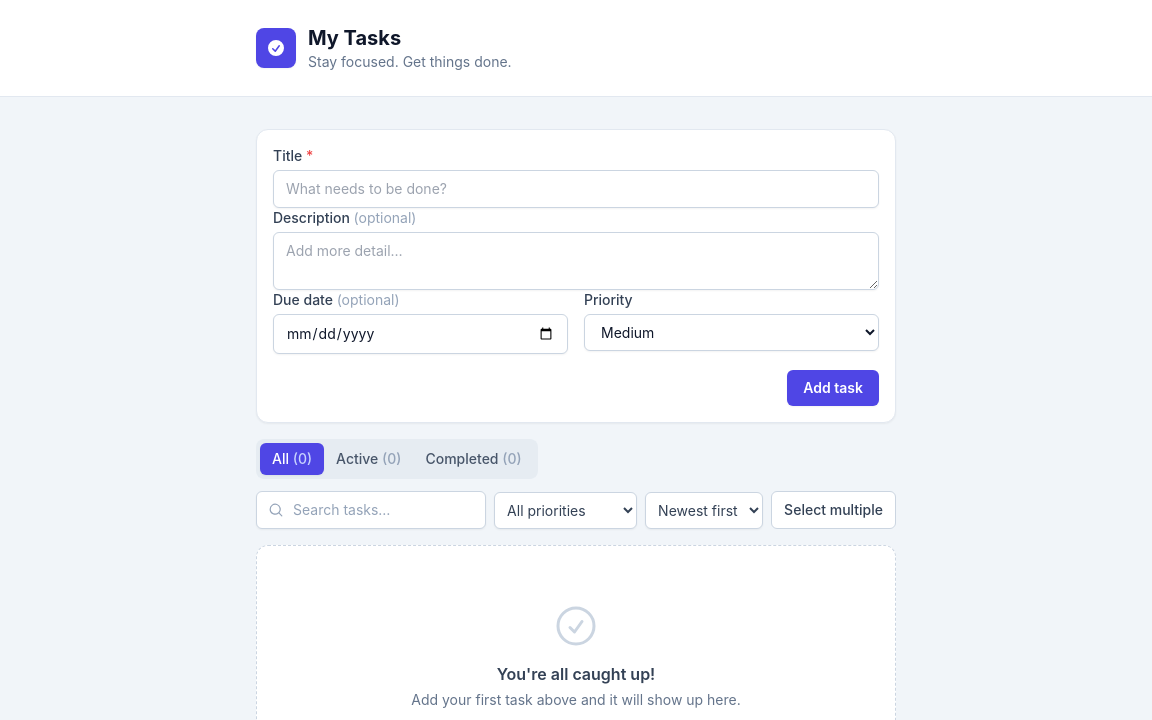
Scenario: App › ignores rapid double-submits so no duplicate task is created
In the field labelled "Title *": (576, 189) 273,170 -> 879,208, type "Buy milk"
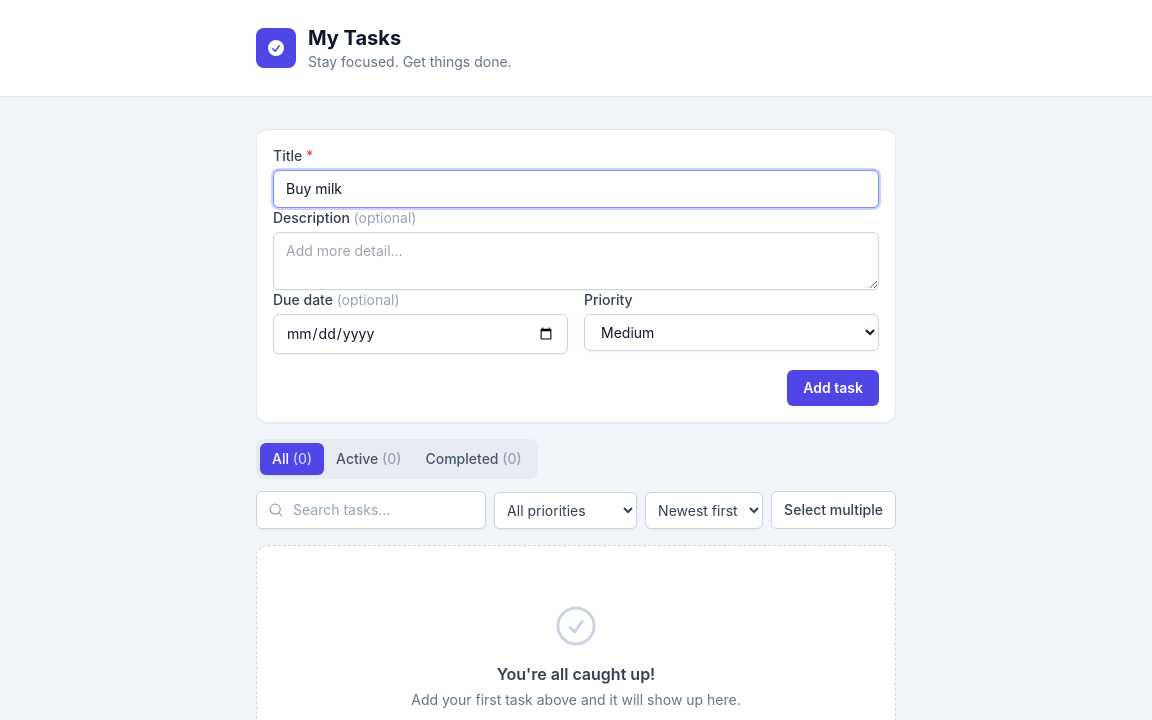
Double-click the button "Add task": (833, 388) 787,370 -> 879,406
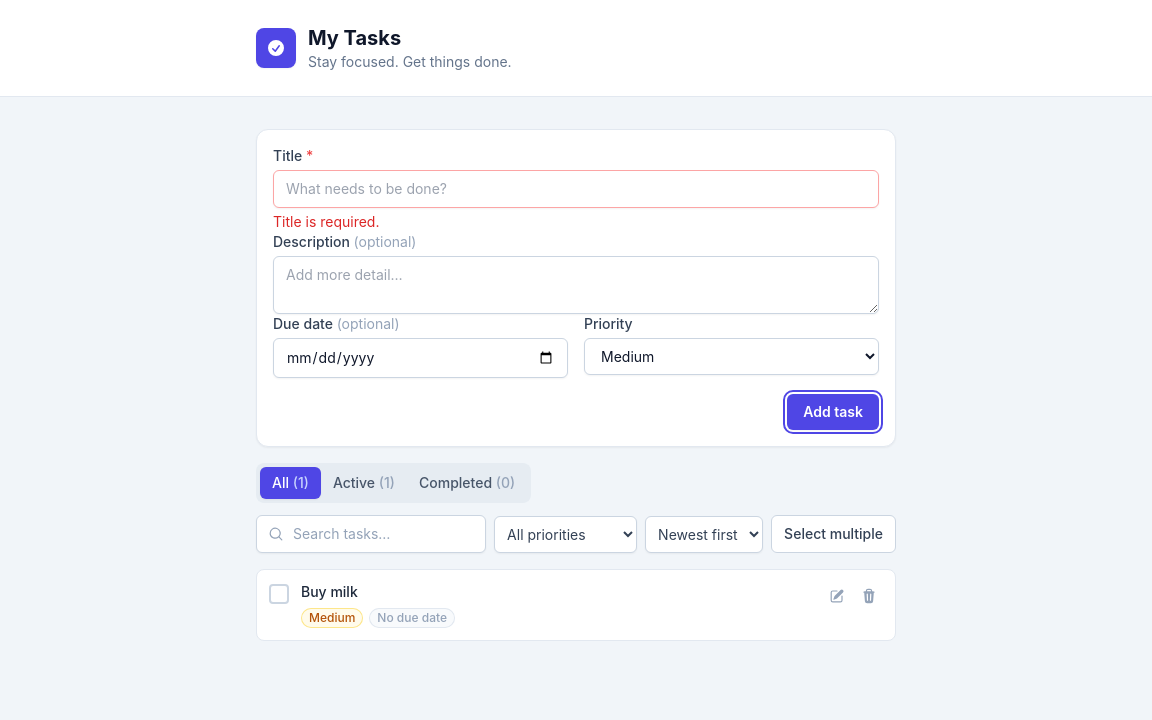
expect the number of list items is 1: met, box 256,569 -> 896,641
